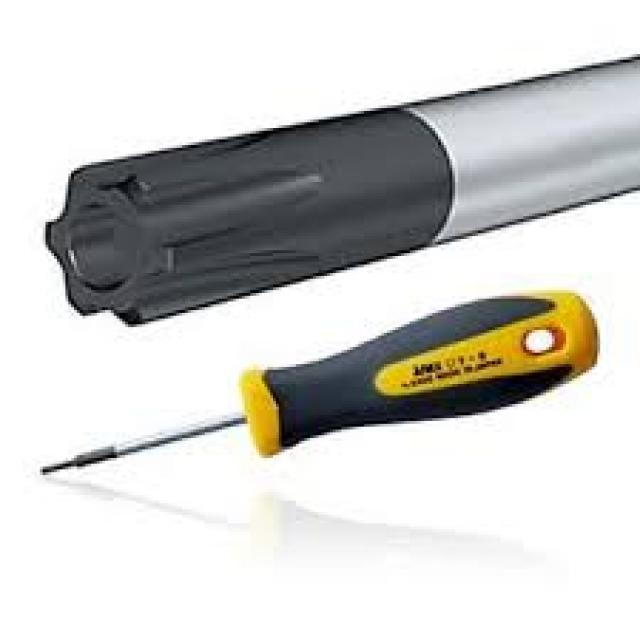screwdriver: (34, 290, 606, 489)
